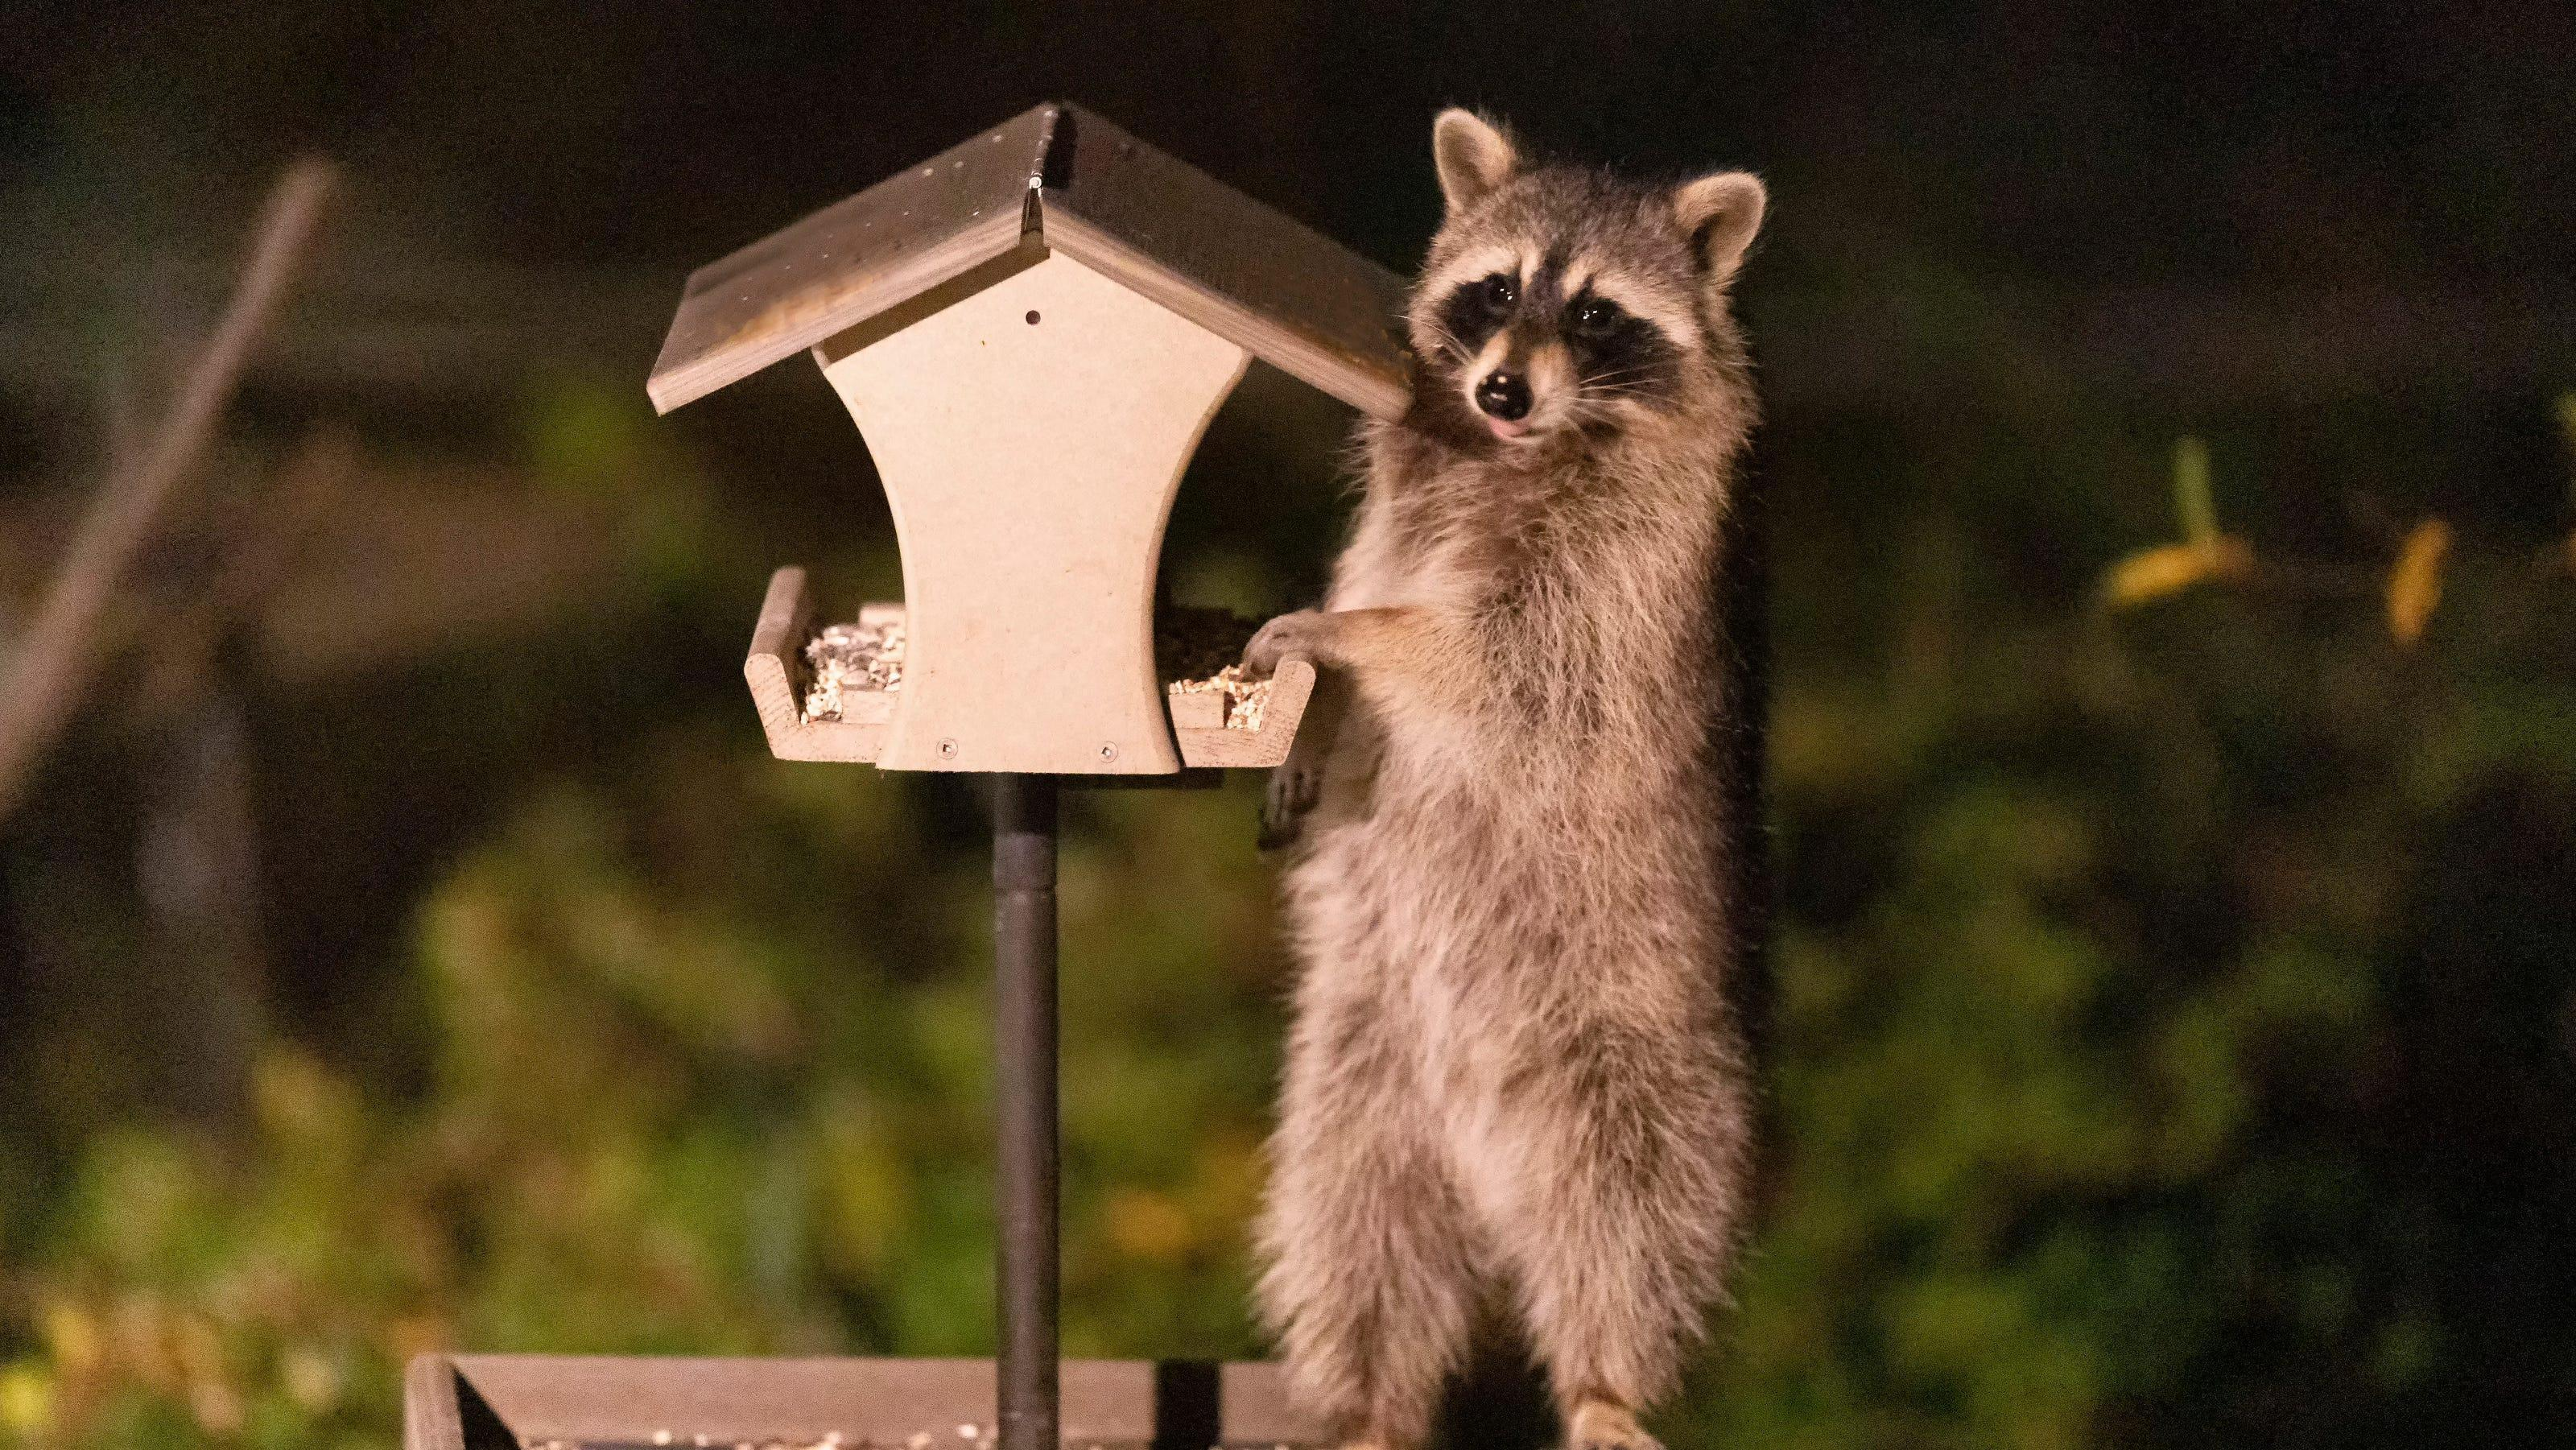raccoon: (1214, 104, 1870, 1450)
